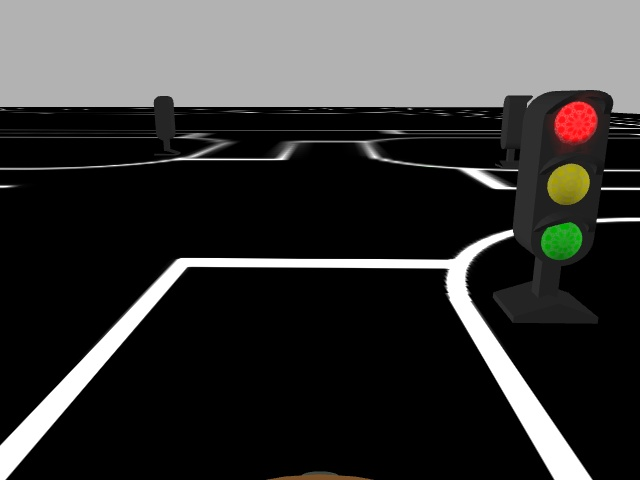red_light: (523, 92, 611, 265)
